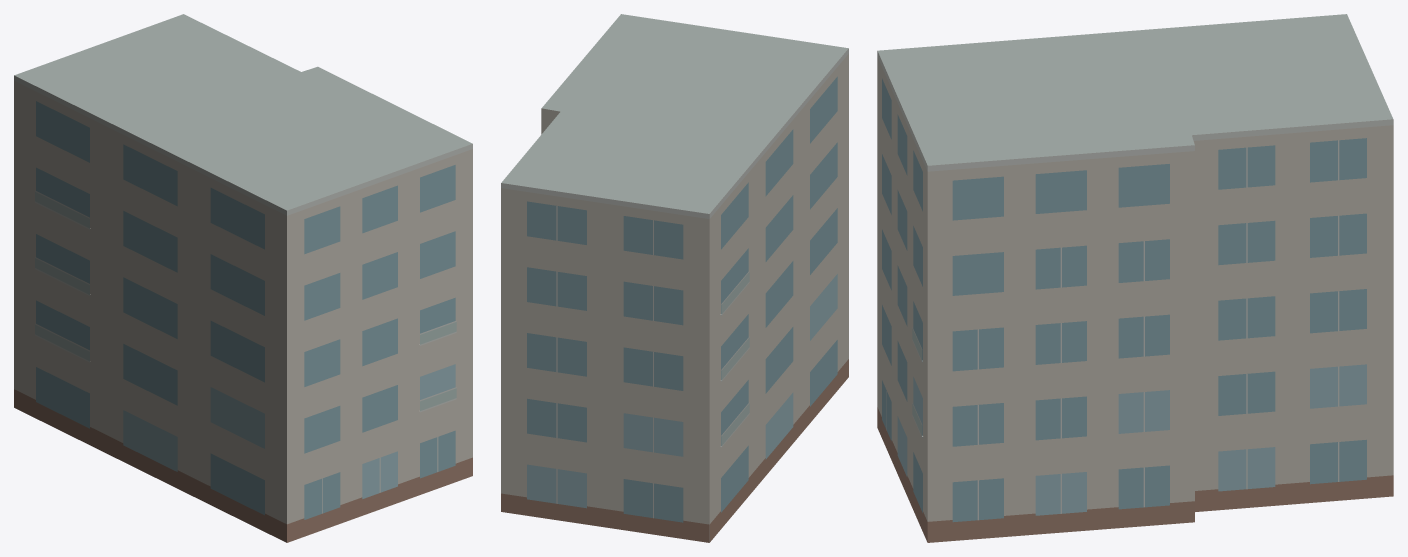
The model's file is survey-upis-32835626.glb.
3 renders of one model, left to right at view 1: azimuth 30°, elevation 25°; view 2: azimuth 150°, elevation 25°; view 3: azimuth 270°, elevation 25°, orthographic. The views are drawn at different scales.
Parts seen in each view (by area): view 1: survey-upis-32835626.tmp; view 2: survey-upis-32835626.tmp; view 3: survey-upis-32835626.tmp.
Boxes of the visible parts, bbox=[...] form: survey-upis-32835626.tmp: bbox=[14, 14, 472, 542]; survey-upis-32835626.tmp: bbox=[501, 14, 848, 542]; survey-upis-32835626.tmp: bbox=[877, 14, 1393, 542].
Size of the model in its own units: 13.48 by 15.6 by 19.36.
